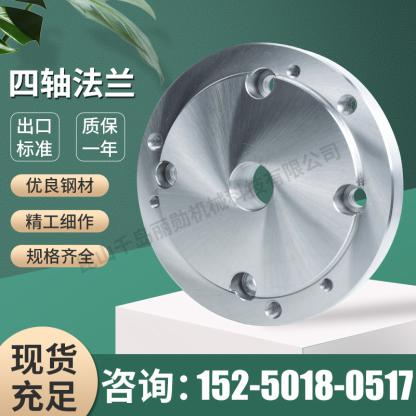FOD: (131, 38, 407, 330)
